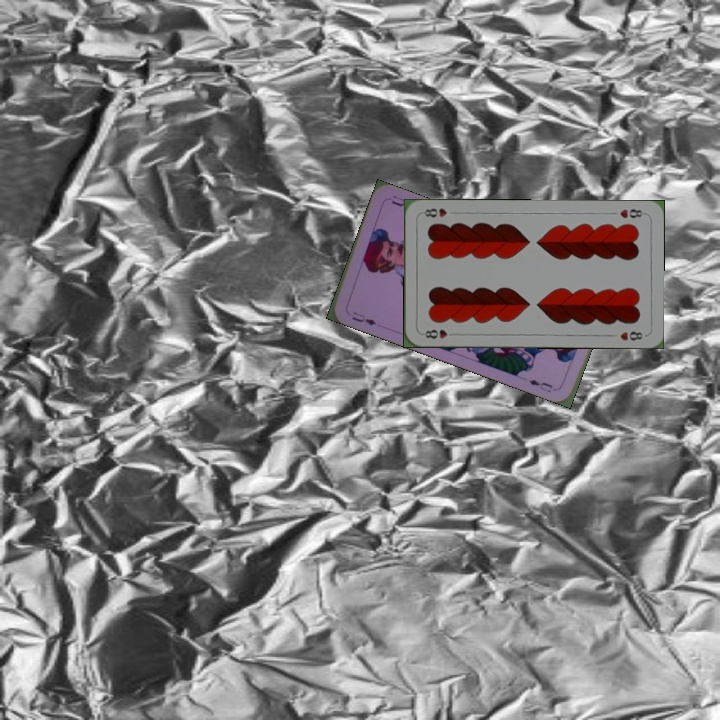EU: (347, 308, 379, 328)
H8: (418, 326, 459, 341), (616, 205, 648, 221)
